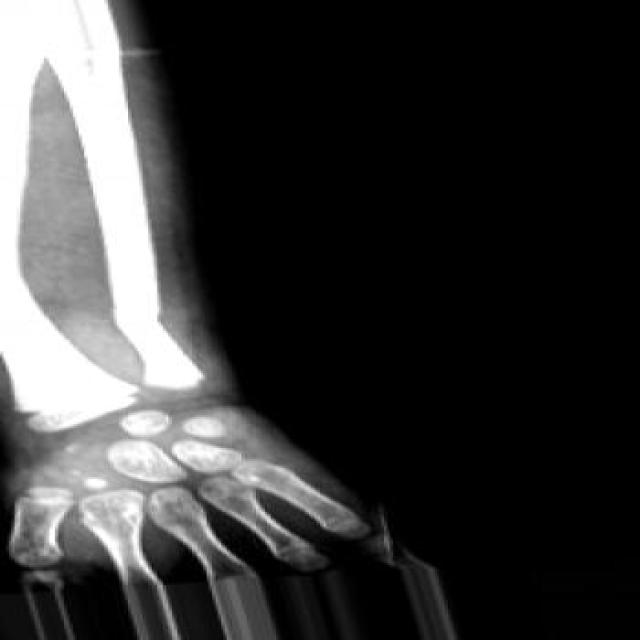Fracture: (95, 300, 185, 328)
